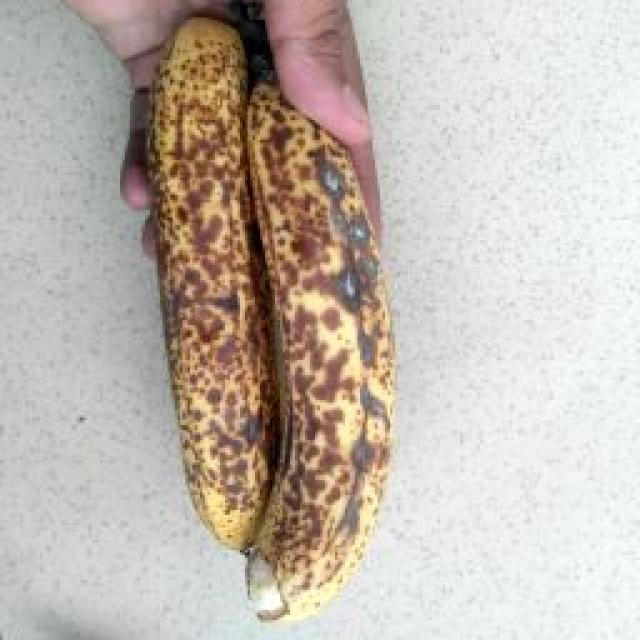banana: (113, 97, 564, 504)
